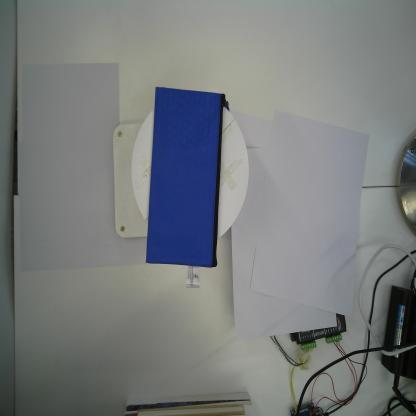Stationery: (145, 86, 228, 269)
